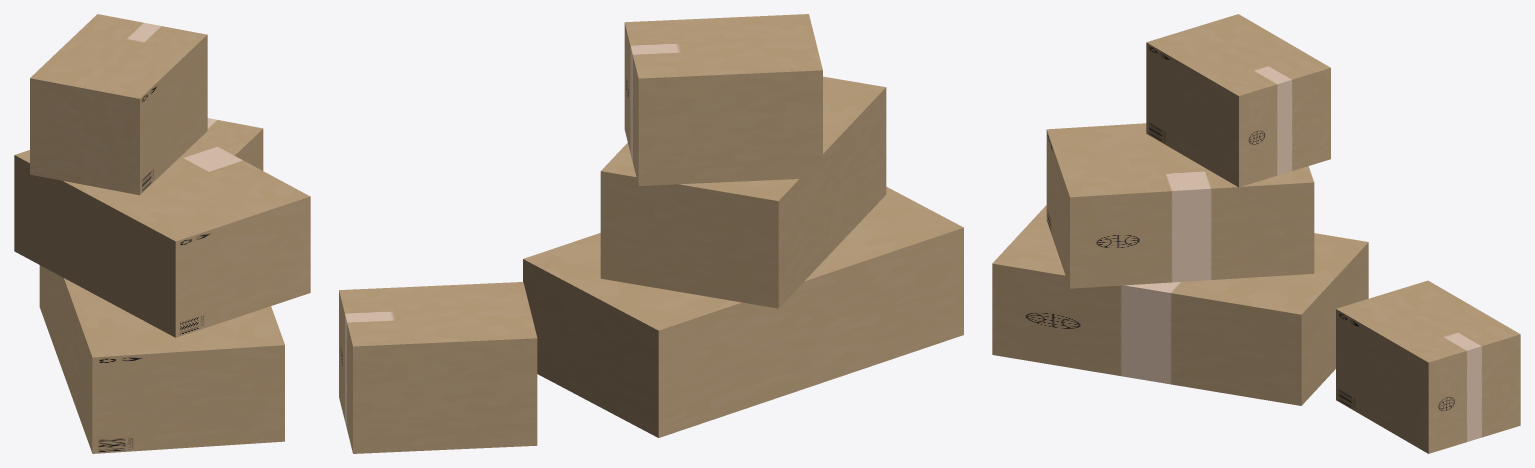
Rendered from NewWebTitoOBJgltf.gltf.
3 views of the same model, side by side, from view 1: azimuth 30°, elevation 25°; view 2: azimuth 150°, elevation 25°; view 3: azimuth 270°, elevation 25° (orthographic). The views are drawn at different scales.
Visible parts, largest first — view 1: Post Vendita Scatola Piccola Alta.003; view 2: Post Vendita Scatola Piccola Alta.003; view 3: Post Vendita Scatola Piccola Alta.003.
Boxes of the visible parts, bbox=[...] form: Post Vendita Scatola Piccola Alta.003: bbox=[14, 14, 310, 453]; Post Vendita Scatola Piccola Alta.003: bbox=[339, 14, 963, 453]; Post Vendita Scatola Piccola Alta.003: bbox=[992, 14, 1520, 453].
Bounding box in the file's own units: 0.0846 × 0.0667 × 0.1118.
Materials: 1 (1 with a texture image).
